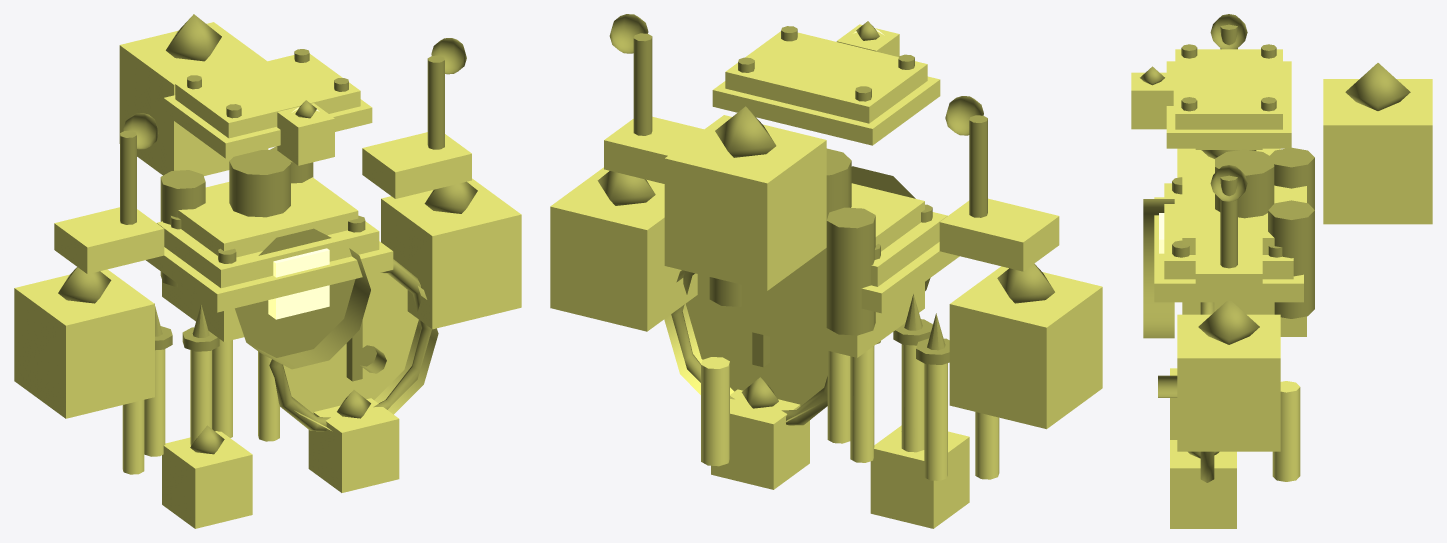
File: golem_052.glb
3 renders of one model, left to right at view 1: azimuth 30°, elevation 25°; view 2: azimuth 150°, elevation 25°; view 3: azimuth 270°, elevation 25°, orthographic. The views are drawn at different scales.
Parts seen in each view (by area): view 1: Body, Detail, Glow; view 2: Body, Detail; view 3: Body, Detail.
Part boxes in pixels (x1,y1,x2,y2): Body: [14, 22, 521, 528]; Detail: [58, 14, 477, 454]; Glow: [268, 107, 329, 319]; Body: [550, 24, 1102, 528]; Detail: [597, 14, 1054, 425]; Body: [1131, 49, 1432, 528]; Detail: [1140, 14, 1410, 482].
Bounding box in the file's own units: 1.39 × 1.21 × 0.7936.
